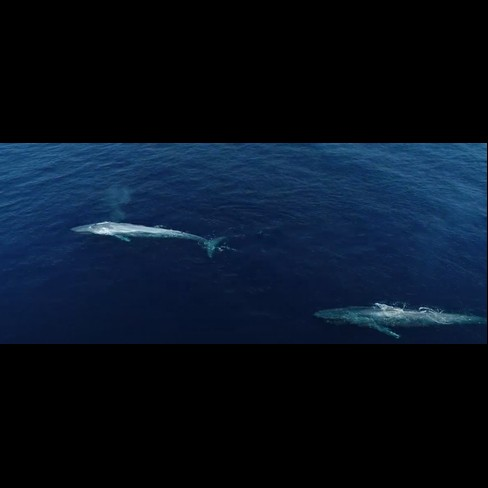bluewhale: (68, 212, 229, 264), (308, 298, 488, 340)
